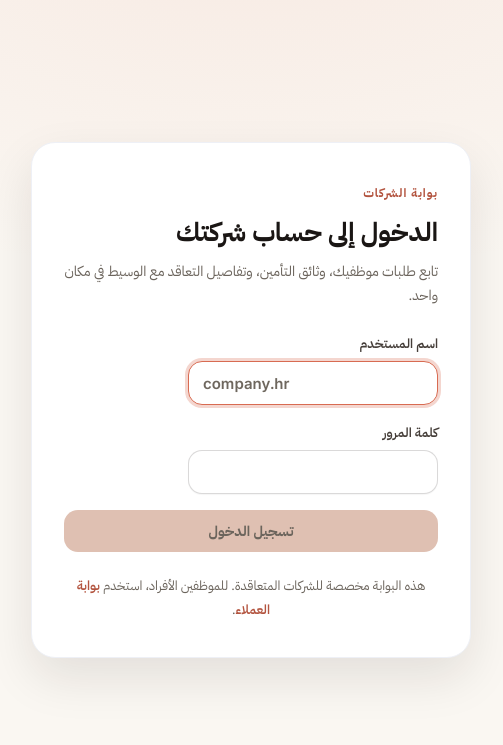
Test: corporate sign-in › asks for a new password when the account is still on its first one
In the field with placeholder "company.hr": (313, 383) [188,361,438,405], type "acme.hr"
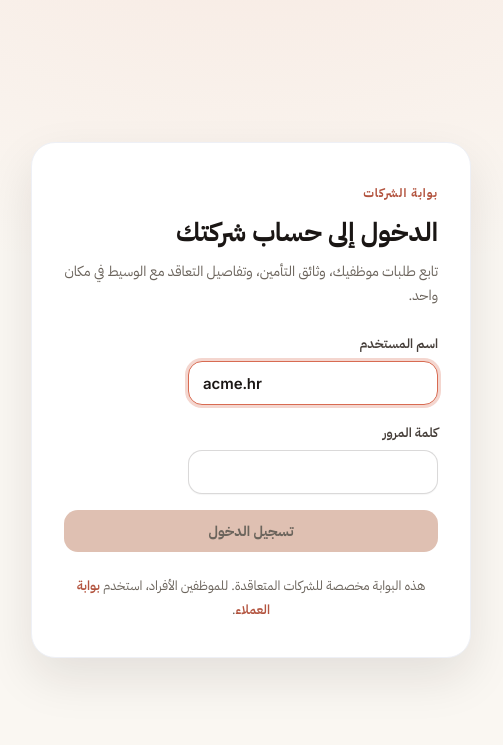
In the password field labelled "كلمة المرور": (313, 472) [188,450,438,494], type "first-password"
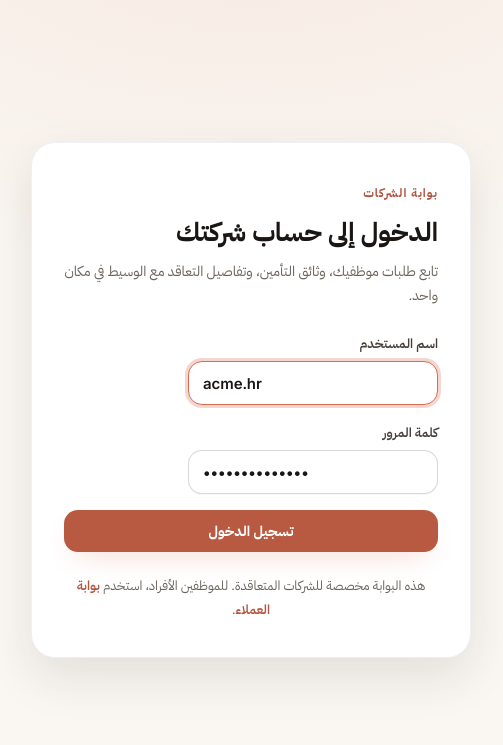
Click the button "تسجيل الدخول": (251, 531) [64,510,438,552]
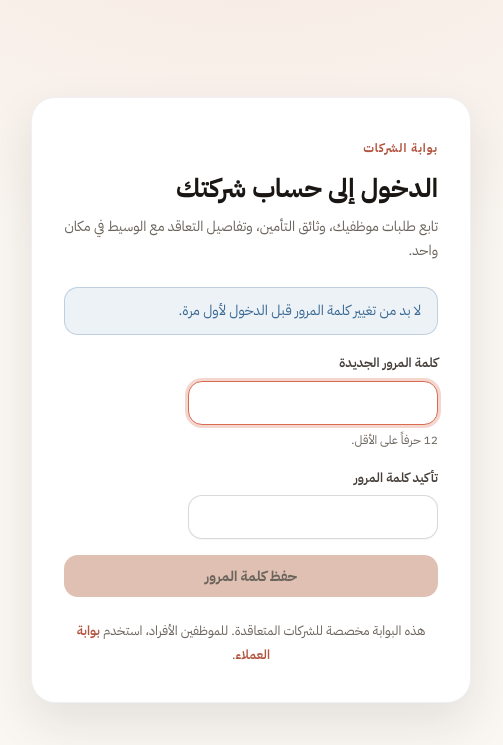
Expected: the text "كلمة المرور الجديدة" is shown, [339,353,438,372]
Expected: the message shows "تغيير كلمة المرور", [179,300,421,321]
